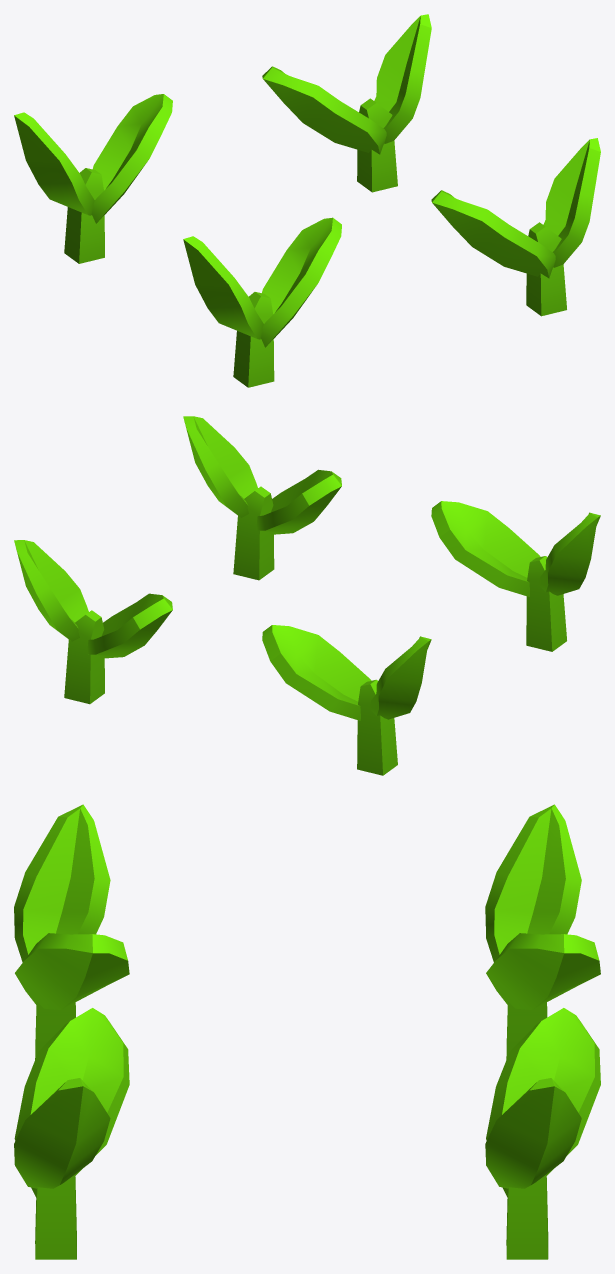
The model's file is Farm_Crop_Wheat_Step_01.fbx.
The picture shows the model from 3 angles, top to bottom: view 1: azimuth 30°, elevation 25°; view 2: azimuth 150°, elevation 25°; view 3: azimuth 270°, elevation 25°; orthographic projection. The views are drawn at different scales.
Parts seen in each view (by area): view 1: Farm_Crop_Wheat_Step_01; view 2: Farm_Crop_Wheat_Step_01; view 3: Farm_Crop_Wheat_Step_01.
Boxes of the visible parts, x1,y1,x2,y2 form: Farm_Crop_Wheat_Step_01: (14, 14, 600, 387); Farm_Crop_Wheat_Step_01: (14, 416, 600, 775); Farm_Crop_Wheat_Step_01: (14, 804, 600, 1259).
Bounding box in the file's own units: 142 × 48.73 × 125.
